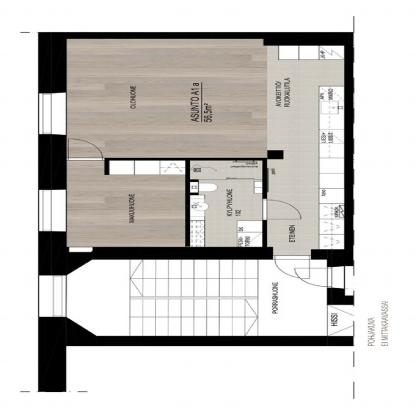door: (65, 138, 106, 162), (290, 268, 340, 287), (260, 201, 301, 222), (274, 257, 311, 277)
window: (36, 91, 68, 137), (35, 275, 63, 318), (37, 188, 64, 232)
zone: (66, 38, 348, 253), (40, 256, 354, 336), (64, 160, 183, 249), (188, 160, 264, 246)
